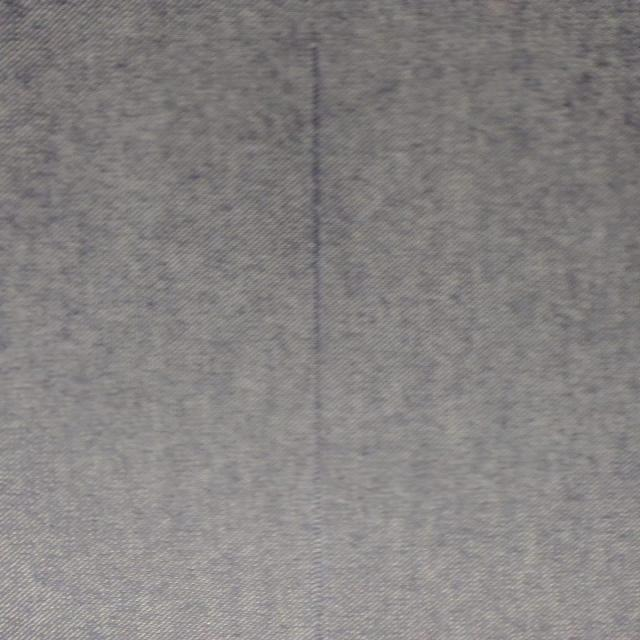Line: (306, 45, 328, 640)
